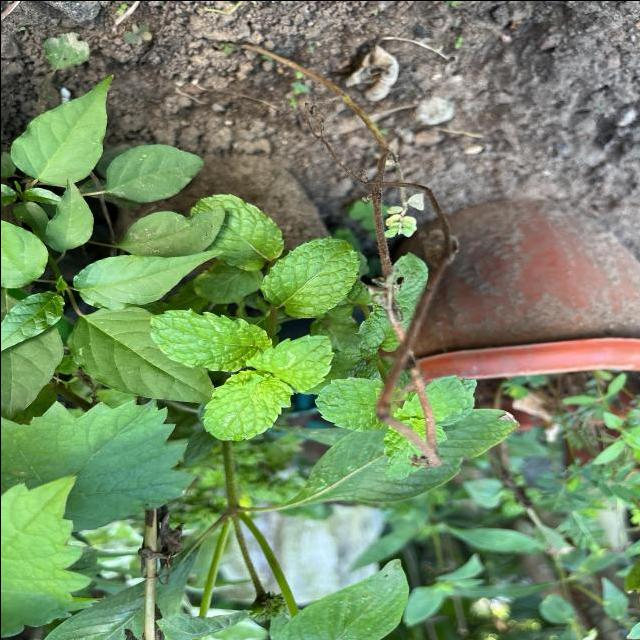Mentha spicata: (259, 234, 362, 318), (148, 306, 274, 372), (200, 370, 292, 442), (244, 332, 337, 392)
